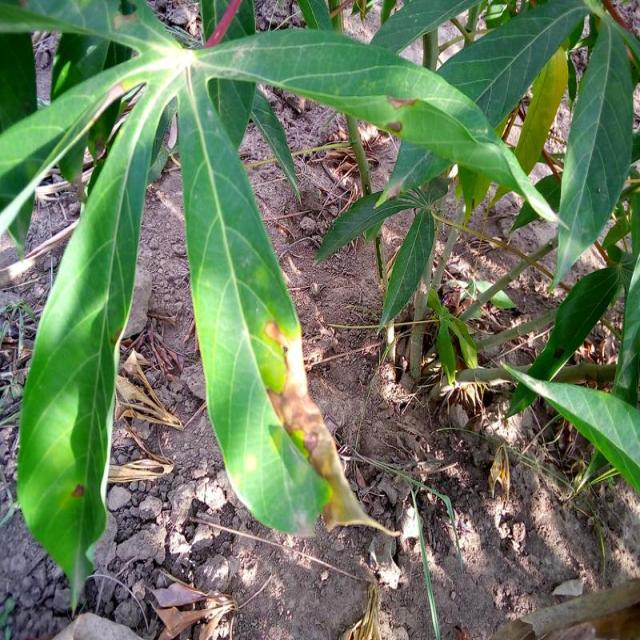cassava leaf: (16, 59, 182, 611), (550, 8, 636, 291)
